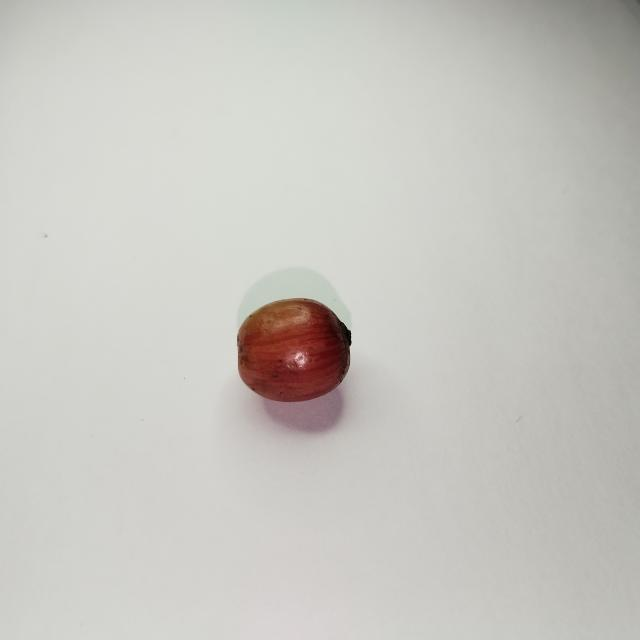Sano: (238, 298, 350, 402)
